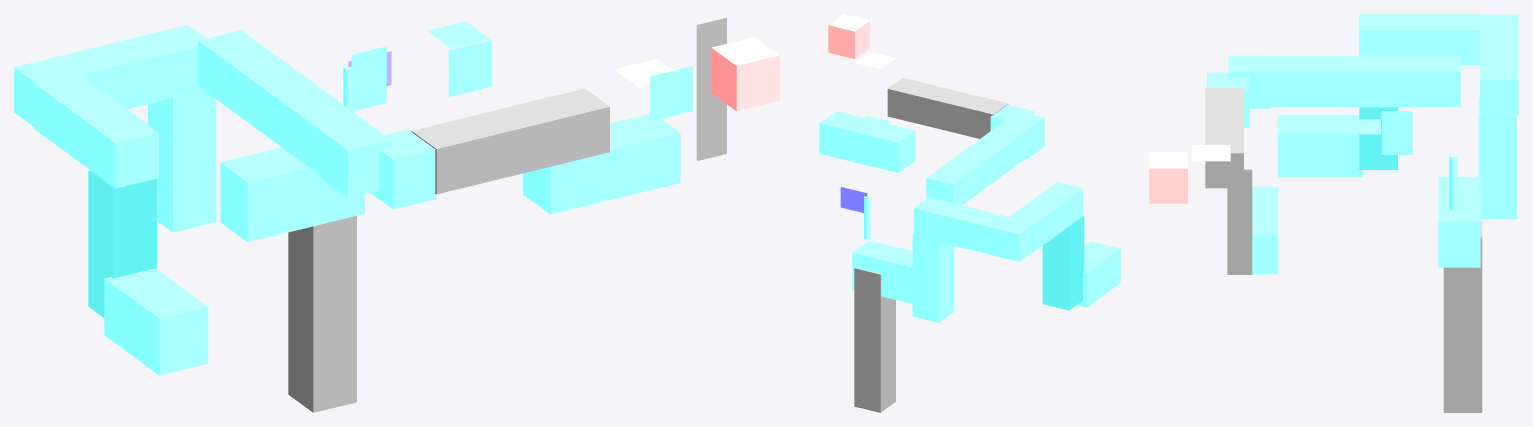
The model's file is level4_new3.gltf.
3 renders of one model, left to right at view 1: azimuth 30°, elevation 25°; view 2: azimuth 150°, elevation 25°; view 3: azimuth 270°, elevation 25°, orthographic. The views are drawn at different scales.
Parts seen in each view (by area): view 1: Box_test, Box_move_l2, Box_move_l1, Box_1, Box_2, Box1, Box2, Box_4, Box, Box_3, Box_7, Box_1_1 (+7 smaller); view 2: Box_test, Box_1, Box_move_l1, Box_move_l2, Box2, Box, Box_3, Box_2, Box1, Box_4, Box_7, Box_1_1 (+5 smaller); view 3: Box_move_l1, Box_test, Box_2, Box_4, Box, Box_1, Box1, Box_move_l2, Plane_5, Box2, Box_7, Box_1_1 (+6 smaller).
Part boxes in pixels (x1,y1,x2,y2): Box_test: [288, 216, 356, 412]; Box_move_l2: [411, 88, 609, 194]; Box_move_l1: [198, 30, 366, 175]; Box_1: [14, 25, 205, 126]; Box_2: [34, 75, 158, 188]; Box1: [220, 147, 364, 242]; Box2: [523, 113, 680, 214]; Box_4: [104, 268, 208, 375]; Box: [148, 88, 216, 232]; Box_3: [88, 170, 156, 317]; Box_7: [711, 37, 779, 111]; Box_1_1: [320, 122, 391, 198]; Box_test: [854, 267, 895, 412]; Box_1: [913, 197, 1033, 261]; Box_move_l1: [926, 122, 1028, 205]; Box_move_l2: [887, 77, 1008, 138]; Box2: [819, 111, 915, 172]; Box: [912, 233, 954, 322]; Box_3: [1042, 216, 1084, 310]; Box_2: [1009, 182, 1083, 252]; Box1: [852, 240, 912, 303]; Box_4: [1077, 241, 1120, 307]; Box_7: [828, 14, 869, 59]; Box_1_1: [1003, 111, 1044, 158]; Box_move_l1: [1267, 56, 1460, 107]; Box_test: [1443, 221, 1482, 412]; Box_2: [1359, 14, 1484, 65]; Box_4: [1277, 115, 1362, 177]; Box: [1478, 97, 1516, 219]; Box_1: [1480, 14, 1518, 115]; Box1: [1438, 177, 1480, 267]; Box_move_l2: [1205, 88, 1243, 188]; Plane_5: [1227, 169, 1252, 274]; Box2: [1252, 186, 1277, 274]; Box_7: [1149, 152, 1187, 203]; Box_1_1: [1228, 55, 1270, 108].
Bounding box in the file's own units: 24.78 × 19.06 × 19.07.
